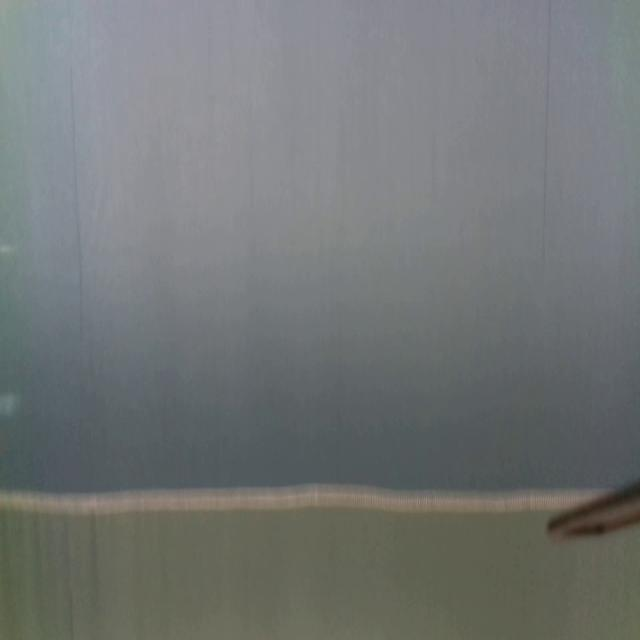crease: (68, 62, 86, 348), (540, 0, 552, 280)
